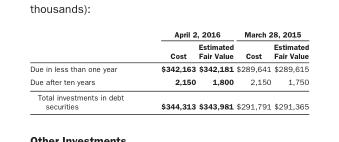table: (29, 29, 308, 110)
table column: (29, 29, 141, 110), (141, 29, 196, 110), (196, 29, 234, 110), (234, 29, 271, 110), (271, 29, 308, 110)
table column header: (29, 29, 308, 62)
table row: (29, 40, 308, 62), (29, 89, 308, 110), (29, 74, 308, 89), (29, 62, 308, 74), (29, 29, 308, 40)
table spanning cell: (141, 29, 234, 40), (234, 29, 308, 40)
